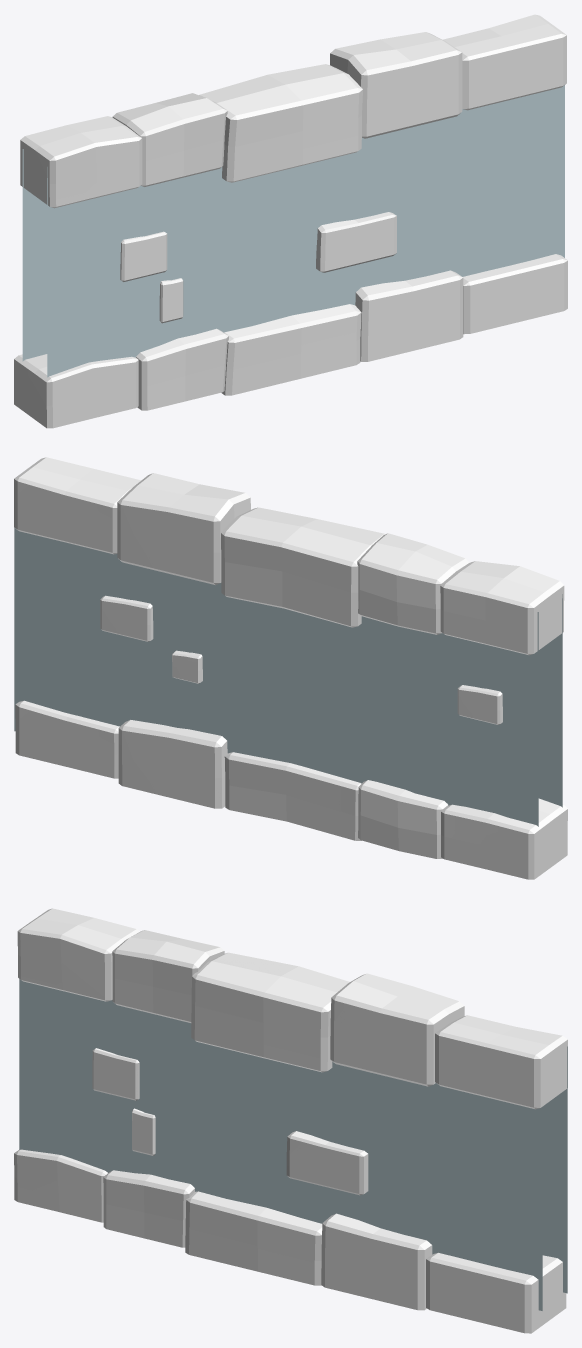
File: wall4444.glb
3 renders of one model, top to bottom at view 1: azimuth 30°, elevation 25°; view 2: azimuth 150°, elevation 25°; view 3: azimuth 330°, elevation 25°, orthographic.
Parts seen in each view (by area): view 1: wall4; view 2: wall4; view 3: wall4.
Part boxes in pixels (left/top/right/bottom): wall4: left=14, top=14, right=567, bottom=428; wall4: left=14, top=457, right=567, bottom=879; wall4: left=14, top=908, right=567, bottom=1333.
Bounding box in the file's own units: 0.1005 × 0.0535 × 0.0141.
1 material, 1 textured.
